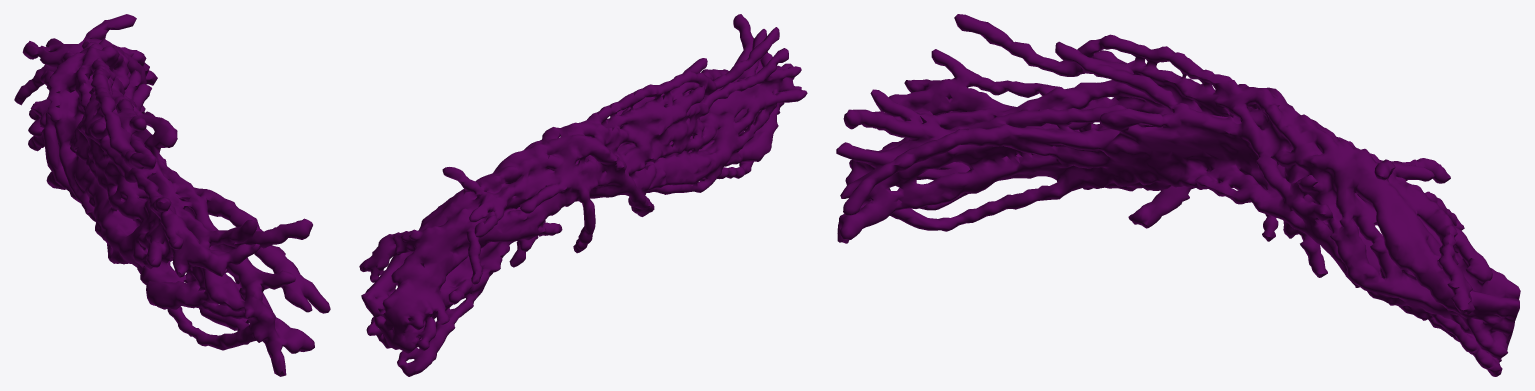
File: Pyramidal_tract.obj
The picture shows the model from 3 angles, left to right: view 1: azimuth 30°, elevation 25°; view 2: azimuth 150°, elevation 25°; view 3: azimuth 270°, elevation 25°; orthographic projection. The views are drawn at different scales.
Parts seen in each view (by area): view 1: grp1; view 2: grp1; view 3: grp1.
Part boxes in pixels (left/top/right/bottom): grp1: left=14, top=14, right=330, bottom=376; grp1: left=359, top=14, right=807, bottom=376; grp1: left=836, top=14, right=1520, bottom=376.
Size of the model in its own units: 53.13 by 50.34 by 114.
